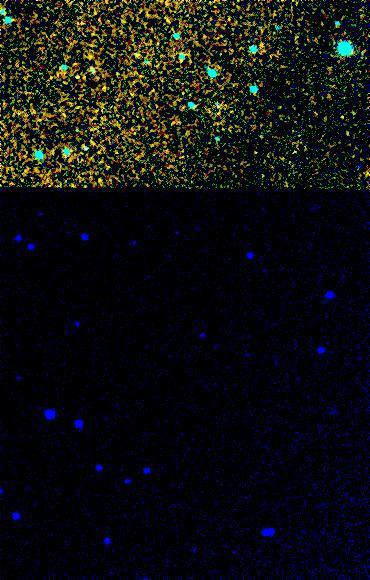star: (247, 27, 277, 57)
